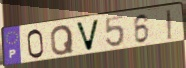0: (26, 28, 45, 60)
5: (105, 14, 126, 49)
6: (133, 14, 151, 45)
I: (165, 8, 175, 41)
Q: (50, 24, 75, 57)
V: (74, 18, 101, 53)
